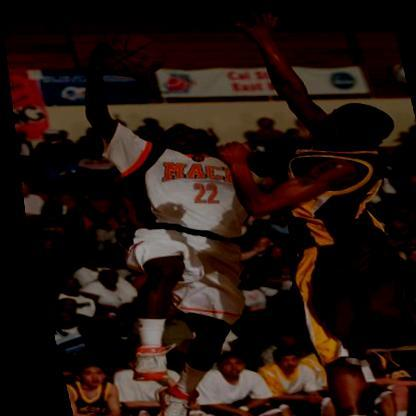basketball: (88, 27, 168, 82)
